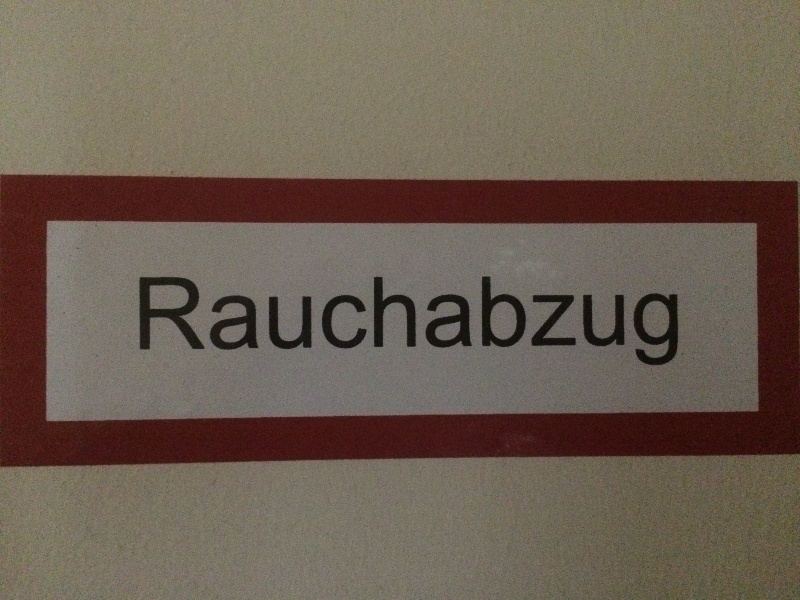text: (145, 275, 160, 370), (161, 275, 176, 370), (177, 275, 192, 370), (193, 275, 208, 370), (209, 275, 224, 370), (225, 275, 240, 370), (241, 275, 256, 370), (257, 275, 272, 370), (273, 275, 288, 370), (289, 275, 304, 370), (305, 275, 320, 370), (321, 275, 336, 370), (337, 275, 352, 370), (353, 275, 368, 370), (369, 275, 384, 370), (385, 275, 400, 370), (401, 275, 416, 370), (417, 275, 432, 370), (433, 275, 448, 370), (449, 275, 464, 370), (465, 275, 480, 370), (481, 275, 496, 370), (497, 275, 512, 370), (513, 275, 528, 370), (529, 275, 544, 370), (545, 275, 560, 370), (561, 275, 576, 370), (577, 275, 592, 370), (593, 275, 608, 370), (609, 275, 624, 370), (625, 275, 640, 370), (641, 275, 656, 370), (657, 275, 672, 370), (673, 275, 681, 370), (138, 275, 144, 370)
